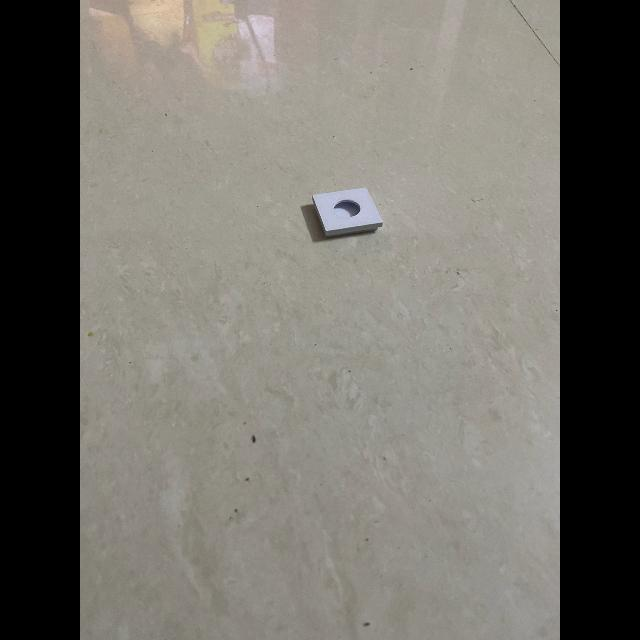RASPBERY PI CAM ENCLOSURE: (312, 187, 383, 237)
